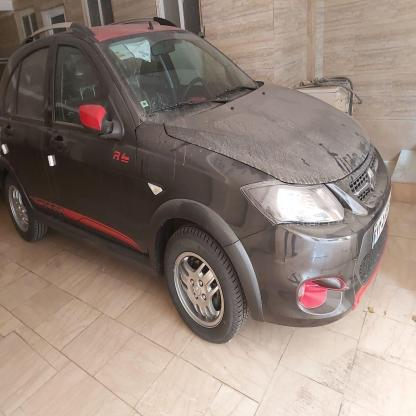Car: (0, 24, 397, 351)
